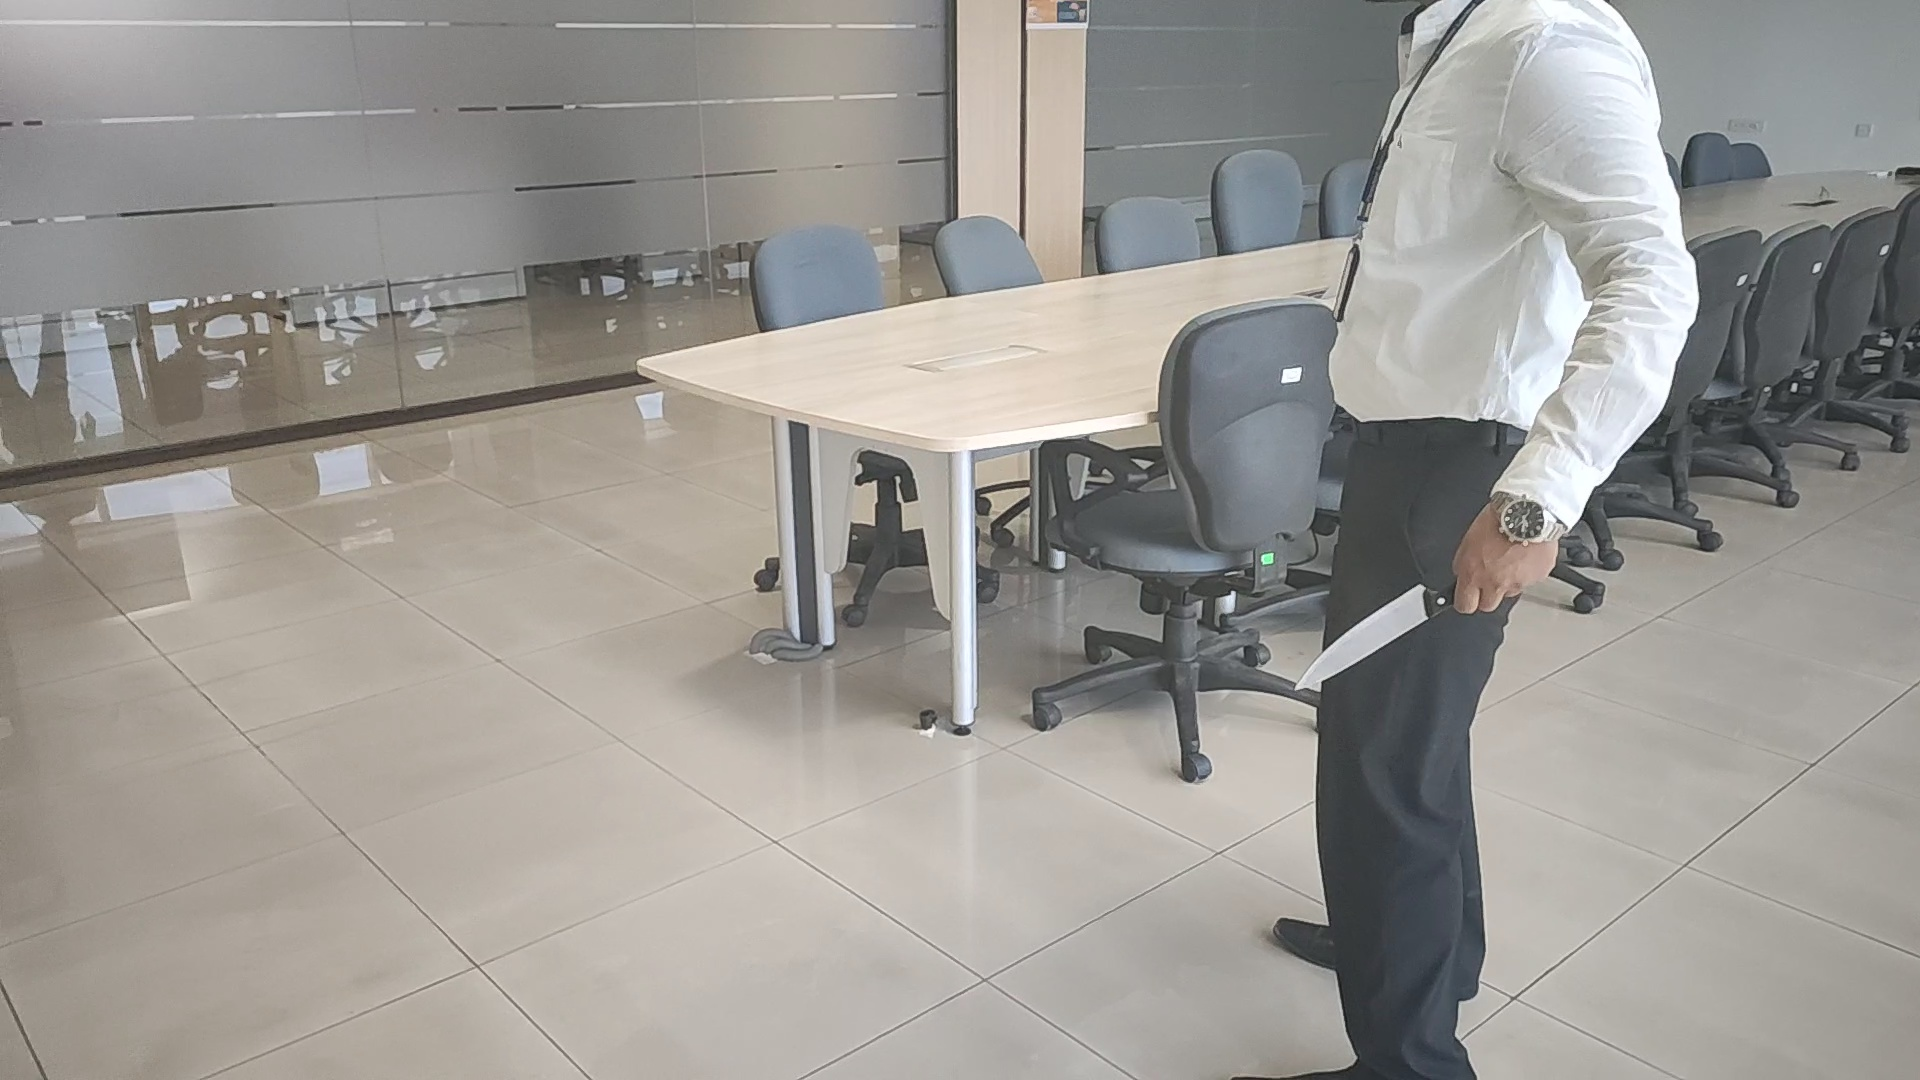knife: (1298, 578, 1455, 687)
